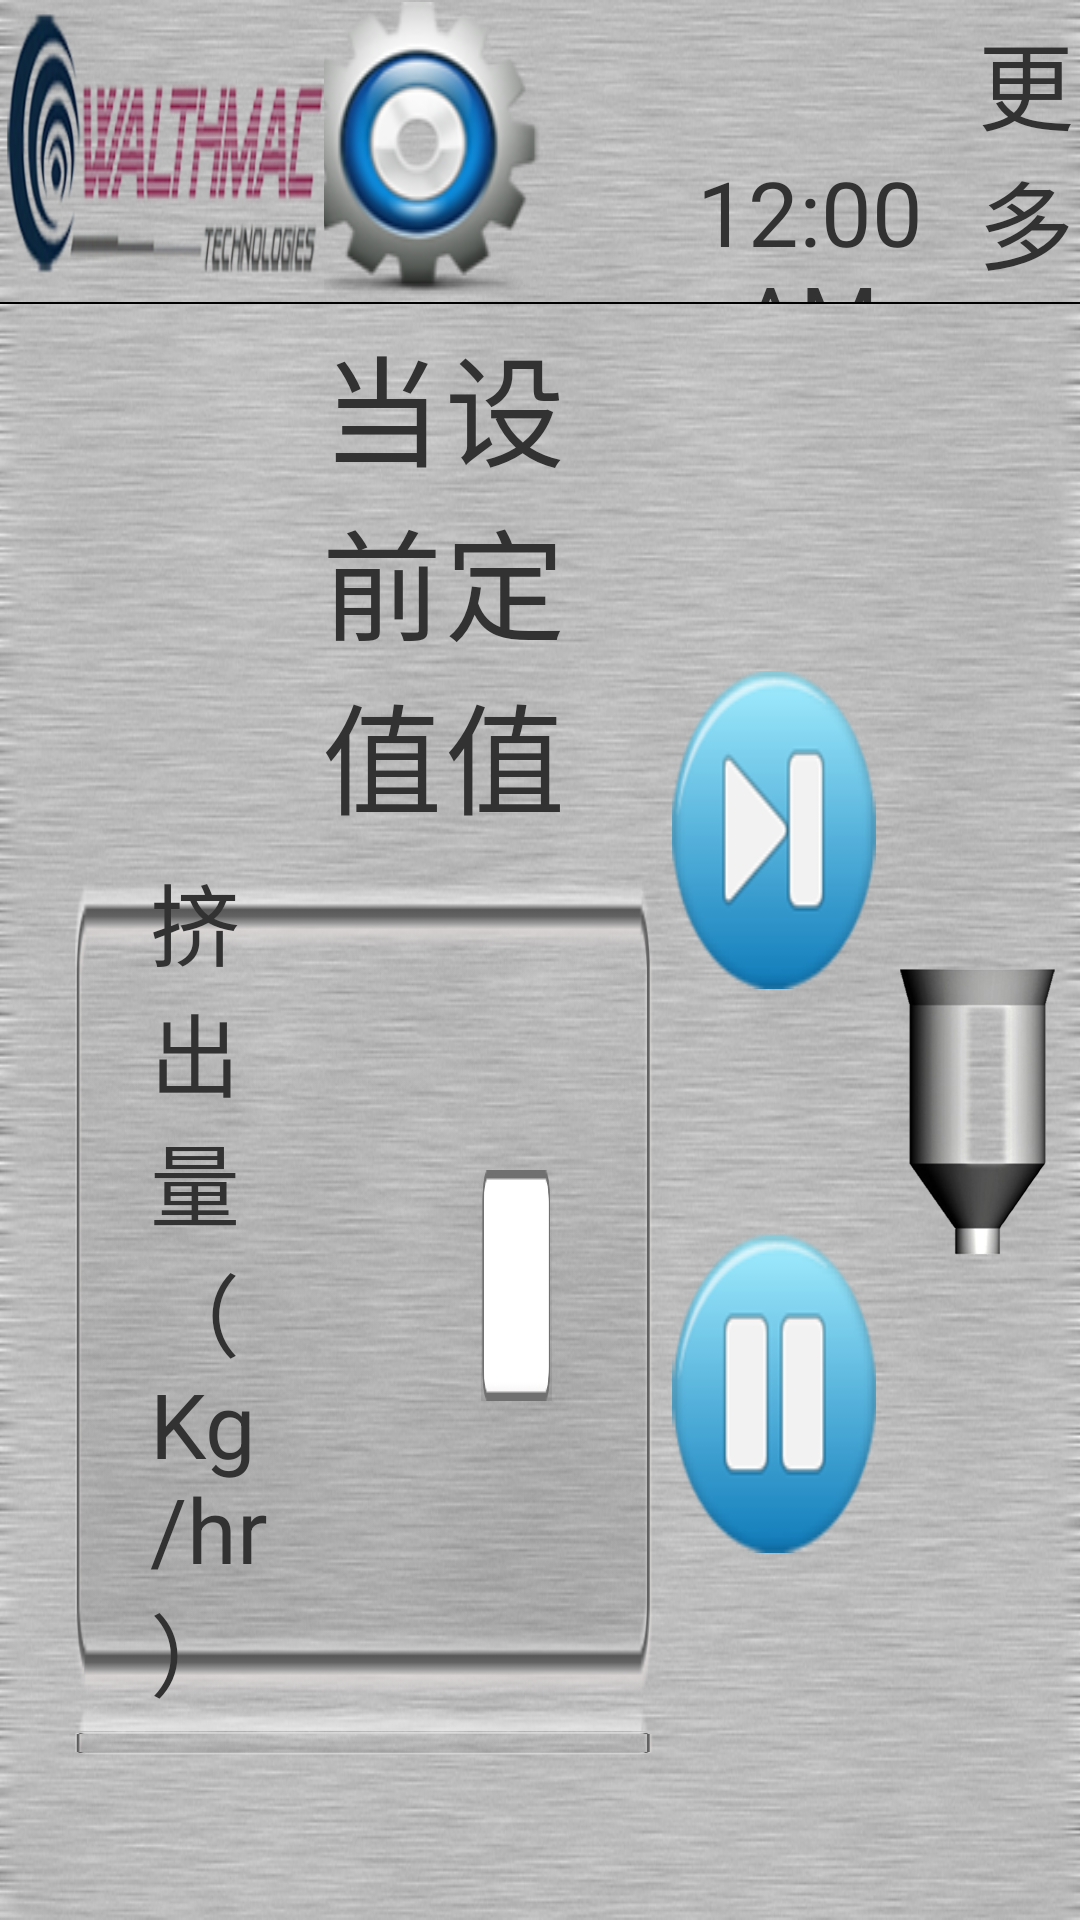

Icon bounding boxes for this 1080 × 1920 phone screenshot, format bbox=(x1, y1, x2, y2):
hopper: bbox=(900, 969, 1055, 1254)
pause: bbox=(672, 1235, 876, 1553)
start: bbox=(672, 671, 876, 989)
